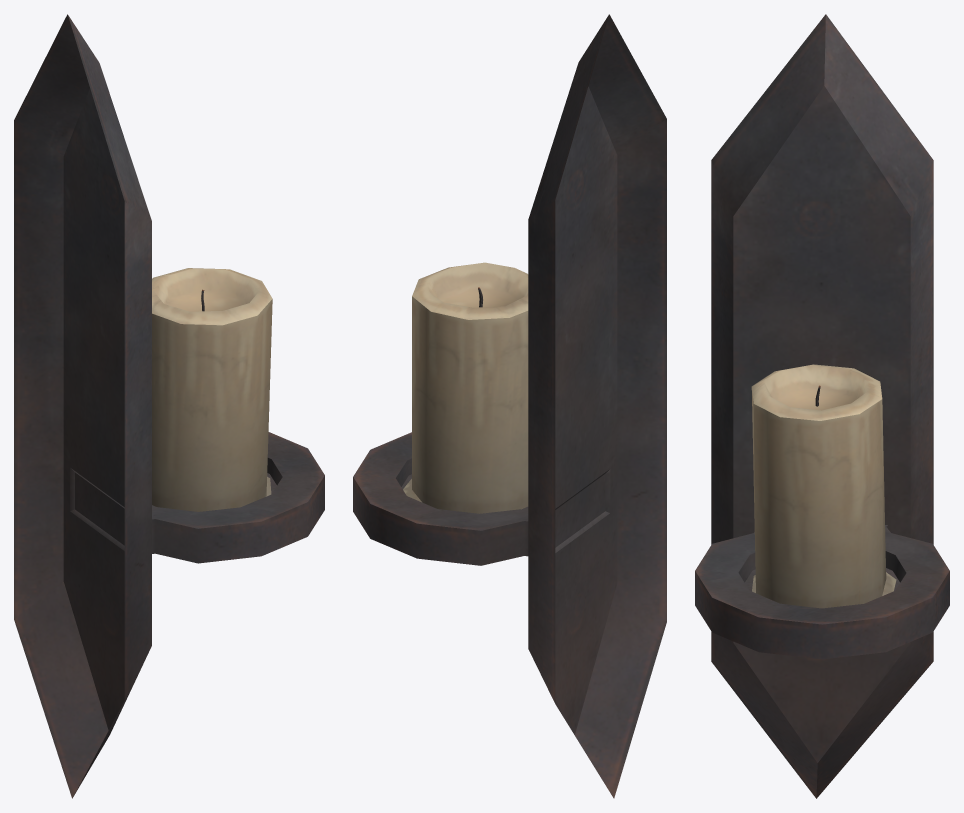
The model's file is candle_sconce.glb.
3 views of the same model, side by side, from view 1: azimuth 30°, elevation 25°; view 2: azimuth 150°, elevation 25°; view 3: azimuth 270°, elevation 25° (orthographic).
Visible parts, largest first — view 1: Object_30; view 2: Object_30; view 3: Object_30.
Boxes of the visible parts, <box> form: Object_30: <box>14,14,324,798</box>; Object_30: <box>353,14,666,798</box>; Object_30: <box>695,14,949,798</box>.
Size of the model in its own units: 0.198 by 0.6194 by 0.1822.
1 material, 1 textured.
